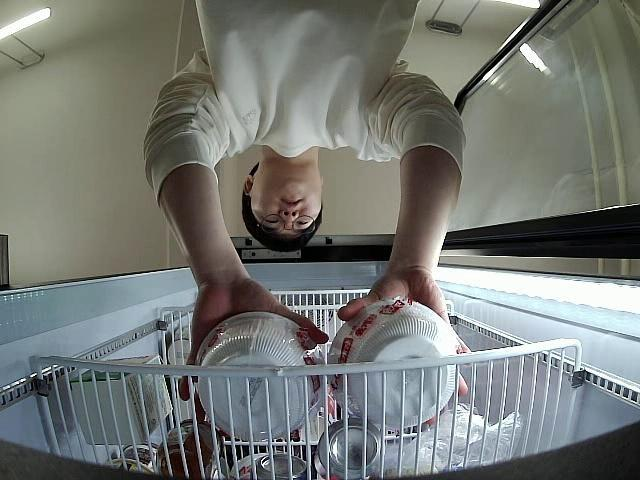09_yukGaeJang: (192, 312, 326, 438), (330, 301, 458, 428)
